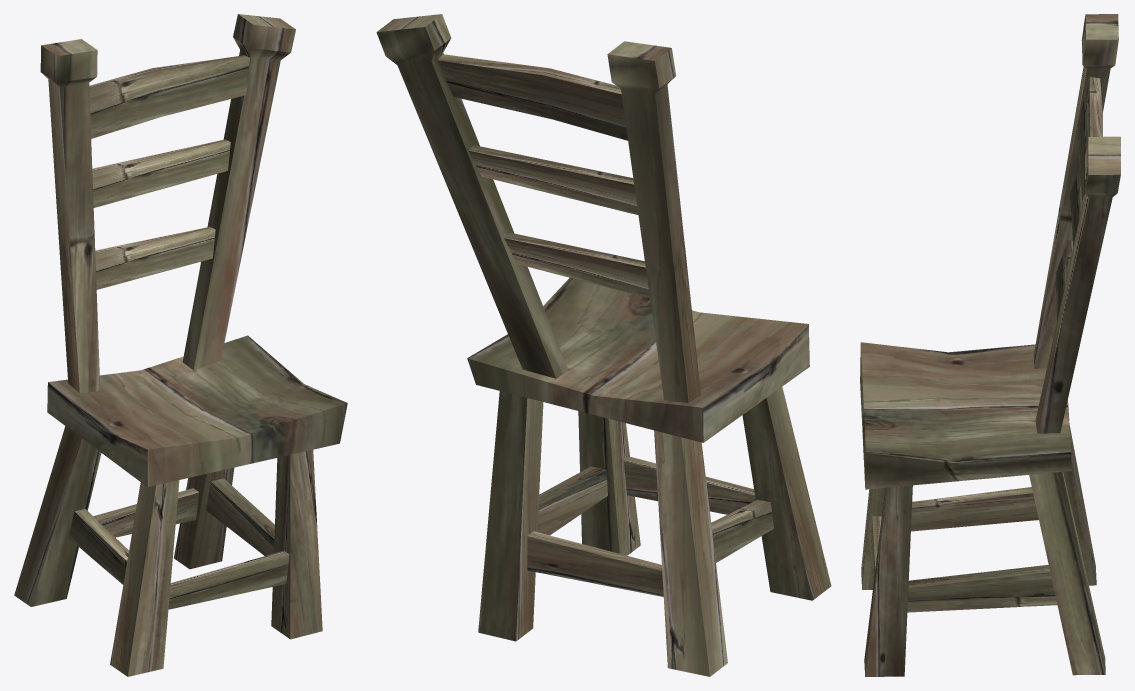
The model's file is chair_shanty.fbx.
The picture shows the model from 3 angles, left to right: view 1: azimuth 30°, elevation 25°; view 2: azimuth 150°, elevation 25°; view 3: azimuth 270°, elevation 25°; orthographic projection. The views are drawn at different scales.
Parts seen in each view (by area): view 1: polySurface365, polySurface363, polySurface362, polySurface366, polySurface387, polySurface370, polySurface367, polySurface388, polySurface389, polySurface372, polySurface368, polySurface371 (+2 smaller); view 2: polySurface365, polySurface363, polySurface362, polySurface370, polySurface368, polySurface366, polySurface387, polySurface367, polySurface388, polySurface369, polySurface389, polySurface371 (+2 smaller); view 3: polySurface365, polySurface363, polySurface368, polySurface367, polySurface362, polySurface371, polySurface373, polySurface370, polySurface387, polySurface366, polySurface389, polySurface388.
Boxes of the visible parts, bbox=[...] form: polySurface365: bbox=[47, 335, 347, 487]; polySurface363: bbox=[182, 14, 295, 370]; polySurface362: bbox=[40, 39, 100, 393]; polySurface366: bbox=[110, 480, 179, 676]; polySurface387: bbox=[89, 55, 249, 138]; polySurface370: bbox=[14, 426, 101, 606]; polySurface367: bbox=[271, 450, 322, 639]; polySurface388: bbox=[92, 139, 230, 207]; polySurface389: bbox=[95, 227, 215, 289]; polySurface372: bbox=[168, 550, 289, 609]; polySurface368: bbox=[174, 467, 234, 569]; polySurface371: bbox=[206, 478, 274, 555]; polySurface365: bbox=[467, 278, 809, 442]; polySurface363: bbox=[376, 14, 567, 378]; polySurface362: bbox=[607, 41, 700, 402]; polySurface370: bbox=[654, 430, 727, 676]; polySurface368: bbox=[478, 391, 543, 641]; polySurface366: bbox=[742, 387, 831, 600]; polySurface387: bbox=[437, 54, 627, 140]; polySurface367: bbox=[578, 411, 640, 555]; polySurface388: bbox=[468, 145, 638, 214]; polySurface369: bbox=[527, 531, 663, 596]; polySurface389: bbox=[504, 232, 649, 298]; polySurface371: bbox=[537, 466, 607, 535]; polySurface365: bbox=[860, 342, 1071, 489]; polySurface363: bbox=[1035, 136, 1120, 433]; polySurface368: bbox=[1029, 472, 1105, 675]; polySurface367: bbox=[864, 485, 912, 676]; polySurface362: bbox=[1033, 14, 1118, 368]; polySurface371: bbox=[907, 565, 1057, 612]; polySurface373: bbox=[911, 487, 1038, 531]; polySurface370: bbox=[1063, 425, 1096, 585]; polySurface387: bbox=[1077, 77, 1102, 201]; polySurface366: bbox=[861, 488, 885, 589]; polySurface389: bbox=[1056, 240, 1073, 320]; polySurface388: bbox=[1070, 168, 1082, 246].
Bounding box in the file's own units: 202 × 374 × 153.
Materials: 1 (1 with a texture image).
